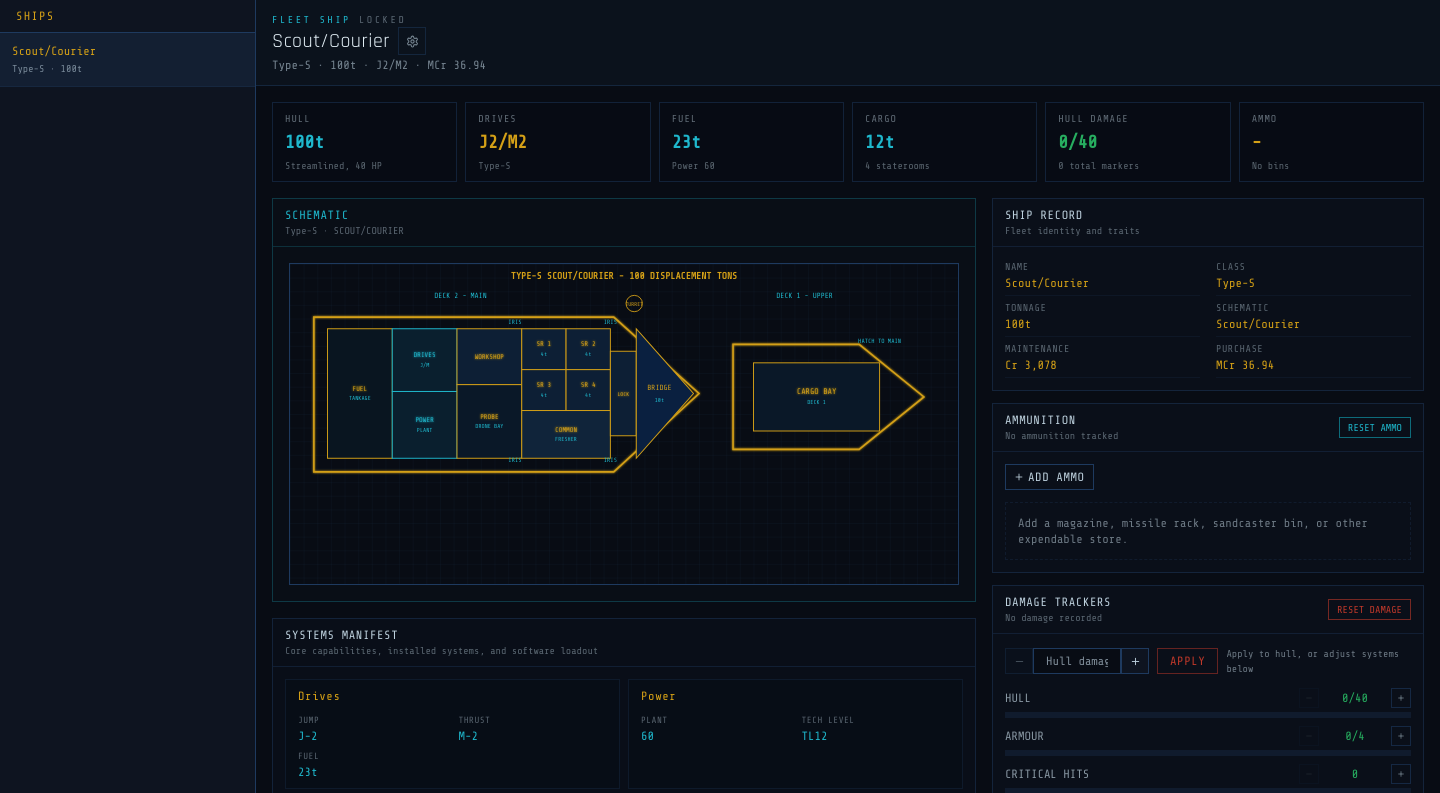
Test case: ShipViewer › moves edit to the selected ship header and removes schematic labels
The image size is (1440, 793).
Expected: the picture named "Type-S Scout/Courier deck plan" is shown, x1=290 y1=264 x2=958 y2=584
Expected: the 1st text "SCHEMATIC" is shown, x1=285 y1=208 x2=349 y2=222
Click the button named "Edit Scout/Courier ship".
click(412, 41)  # box x1=398 y1=27 x2=426 y2=55
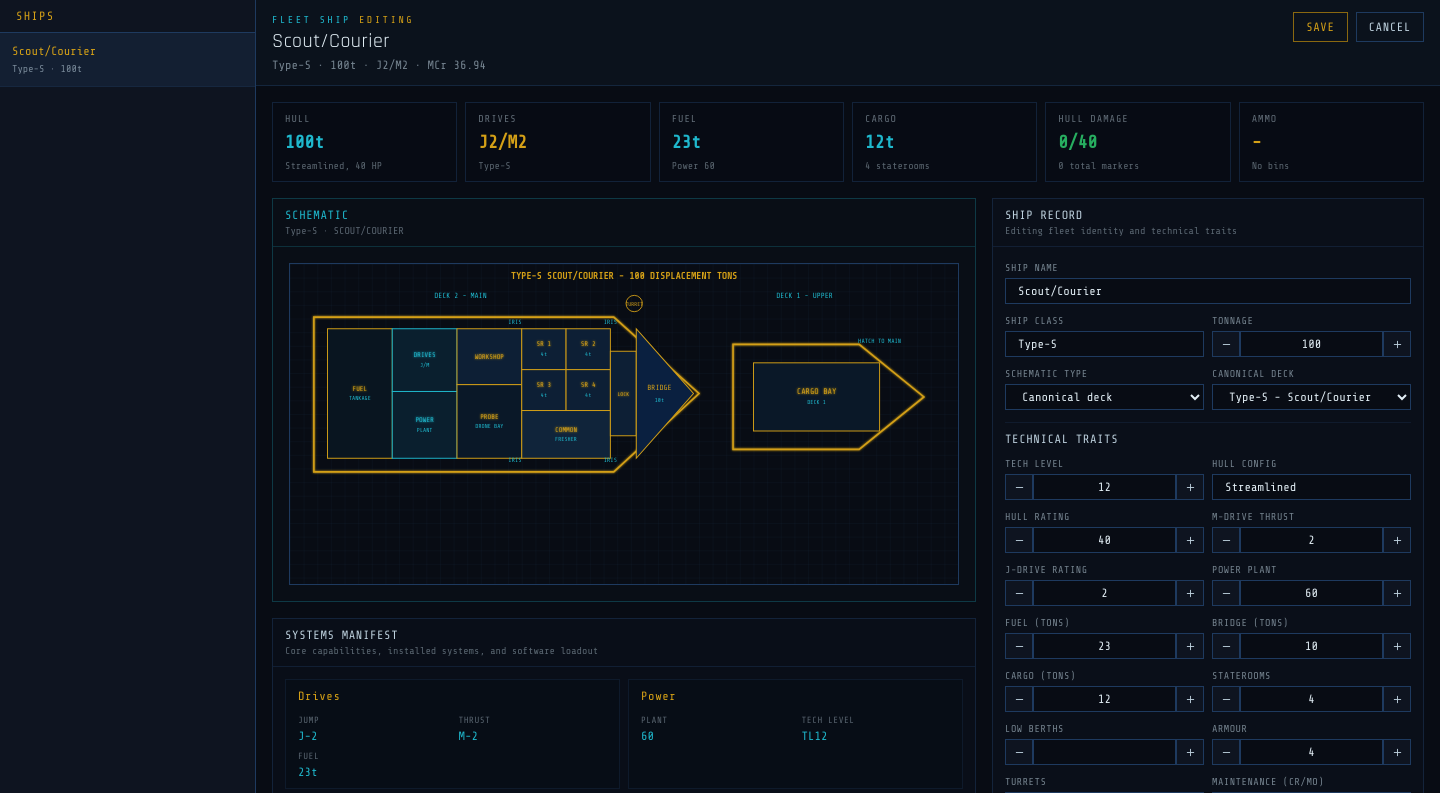
Result: the field labelled "SHIP NAME" is shown at x1=1005 y1=278 x2=1411 y2=304
Result: the button "SAVE" is shown at x1=1293 y1=12 x2=1348 y2=42
Result: the button "CANCEL" is shown at x1=1356 y1=12 x2=1424 y2=42
